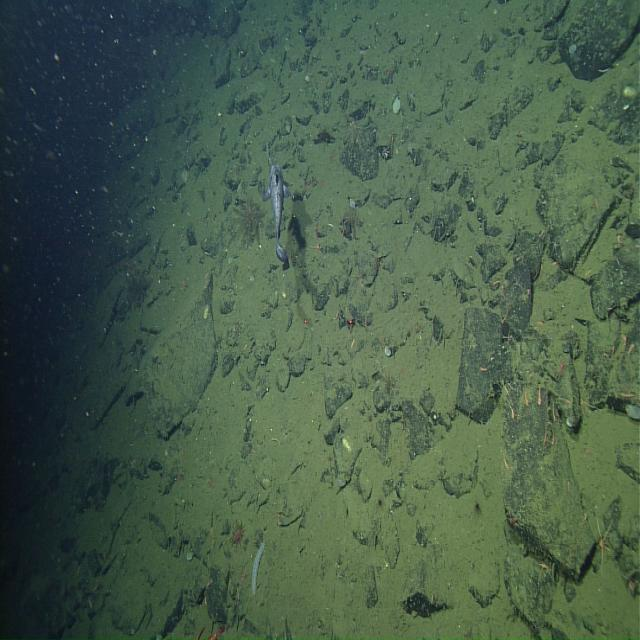Brittle Star: (592, 508, 617, 576)
Not Brittle Star: (263, 158, 293, 274), (231, 193, 266, 246), (337, 110, 372, 144), (250, 536, 268, 598), (342, 200, 364, 239), (230, 512, 247, 549)
